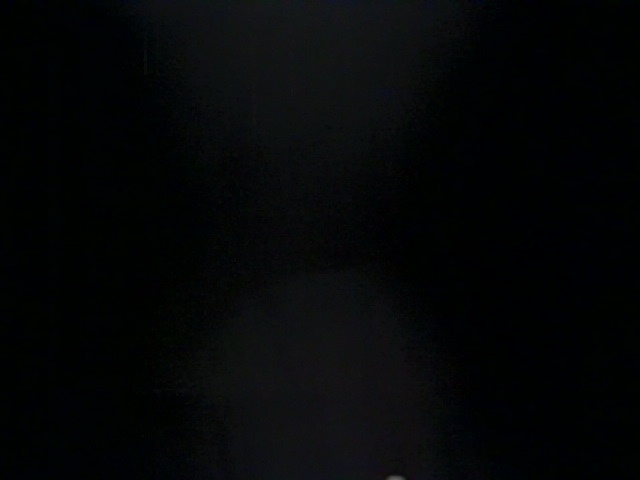YHLJ: (315, 55, 412, 127)
